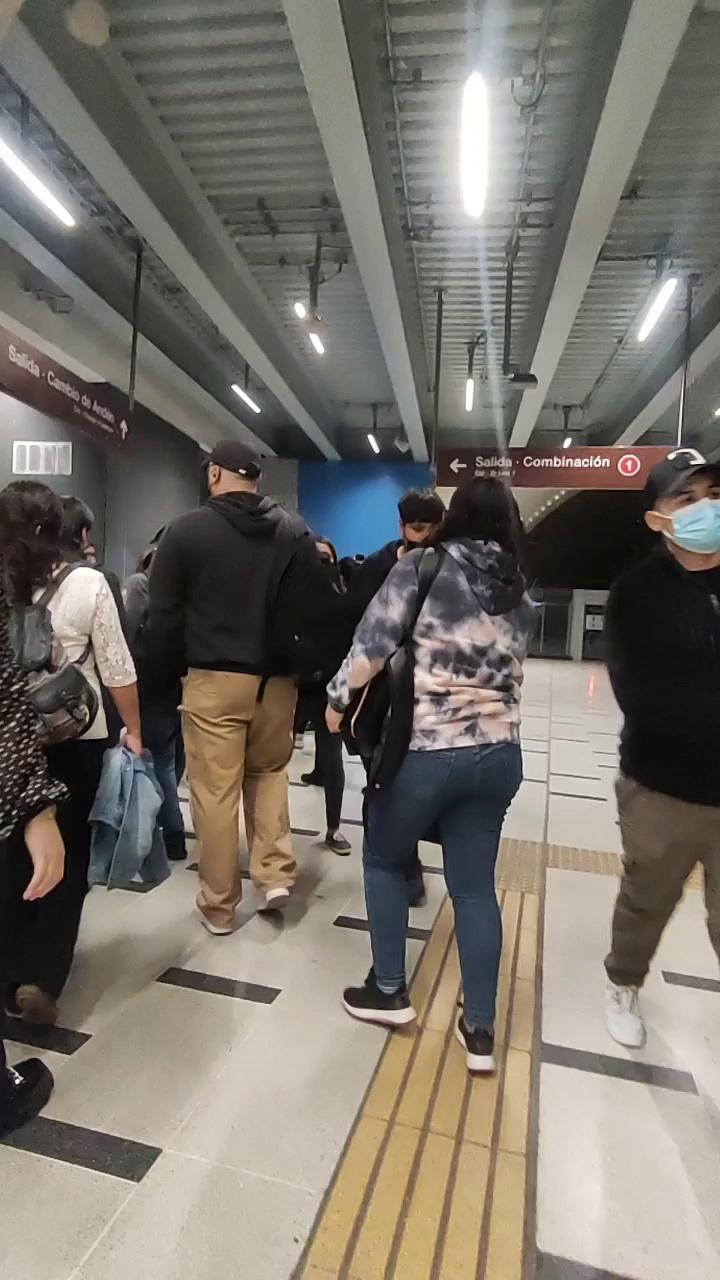left arrow: (444, 454, 469, 476)
up arrow: (116, 416, 130, 444)
